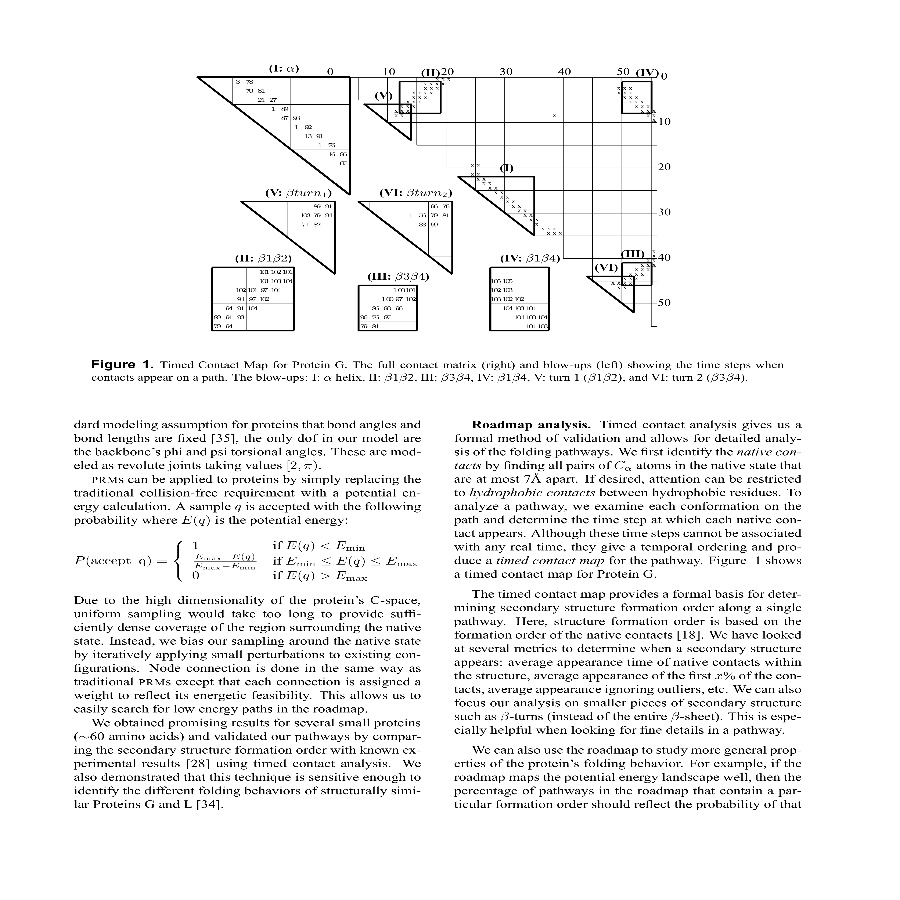eq: (71, 537, 421, 588)
